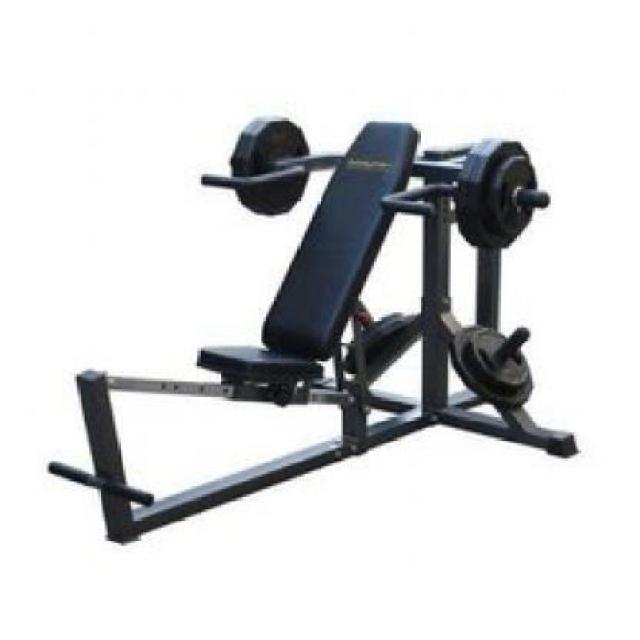shoulder press machine: (51, 117, 582, 548)
